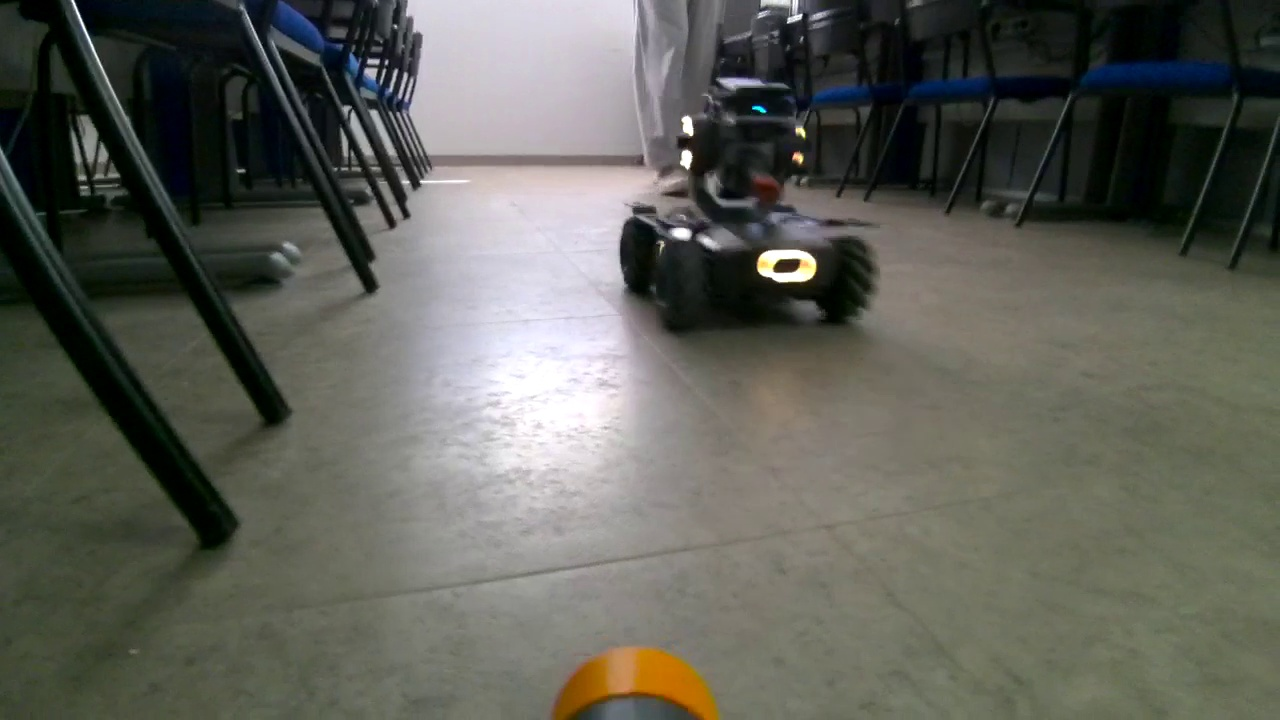robot: (606, 19, 882, 336)
